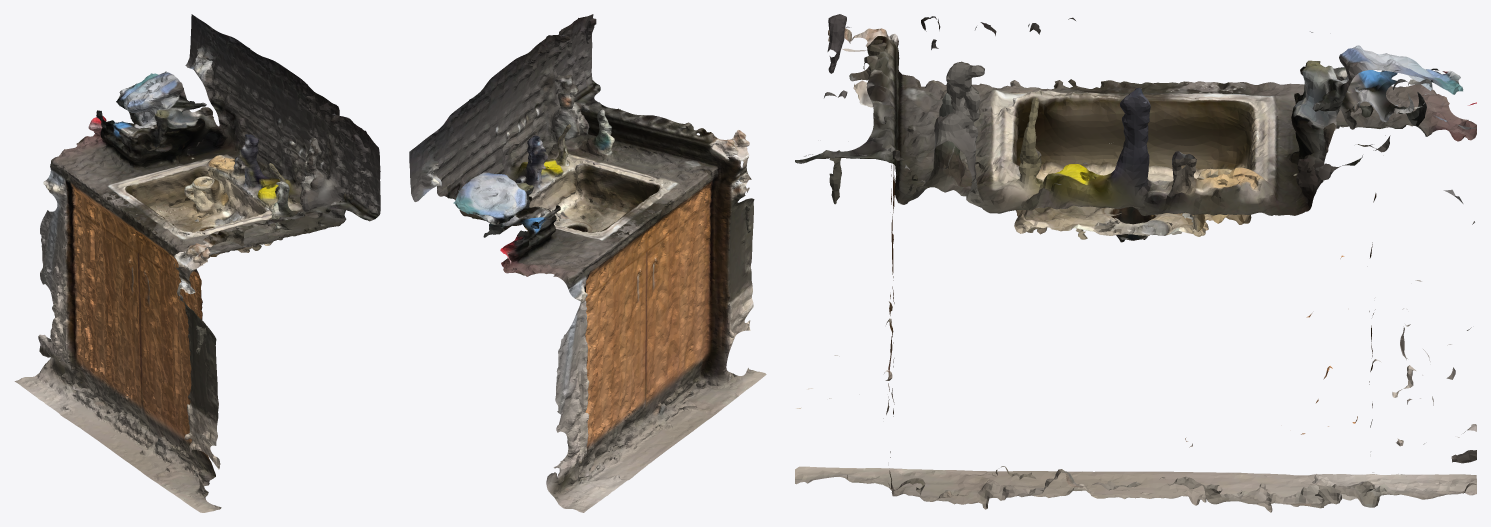
File: sink_1.glb
The picture shows the model from 3 angles, left to right: view 1: azimuth 30°, elevation 25°; view 2: azimuth 150°, elevation 25°; view 3: azimuth 270°, elevation 25°; orthographic projection. The views are drawn at different scales.
Size of the model in its own units: 0.727 by 1.31 by 1.31.
1 material, 1 textured.
